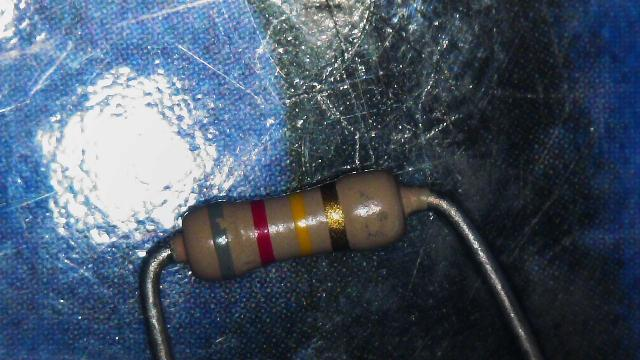gold: (322, 180, 347, 250)
grey: (208, 202, 234, 279)
red: (253, 200, 271, 264)
resistor: (157, 135, 437, 305)
yellow: (290, 192, 310, 254)
